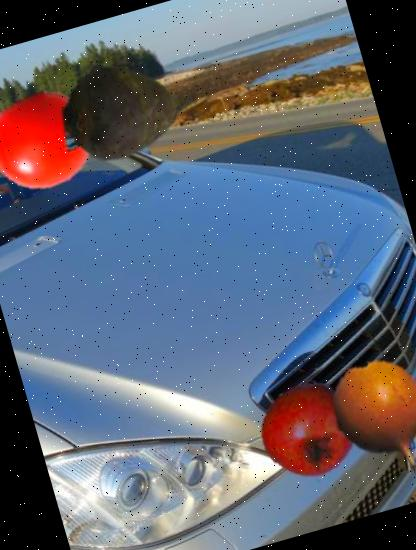Beetroot: (41, 20, 224, 202)
Granadilla: (300, 341, 416, 507)
Pomegranate: (250, 372, 366, 488)
Tomato: (0, 75, 107, 206)
